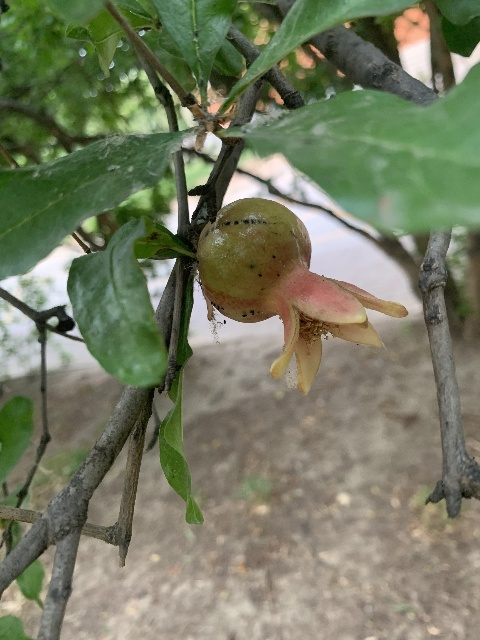early-fruit: (197, 197, 409, 396)
